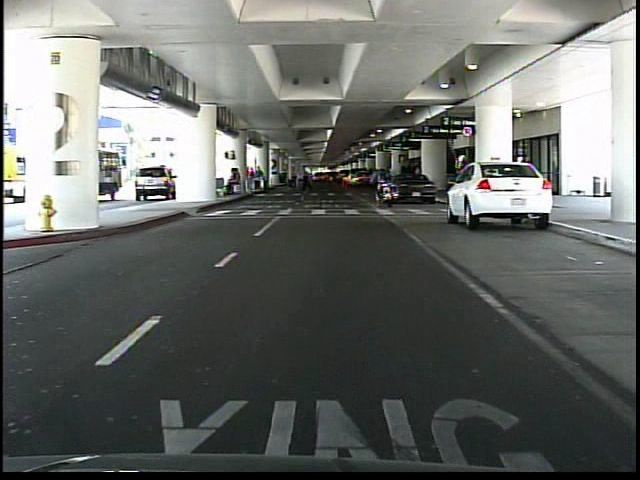person: (451, 151, 472, 222)
